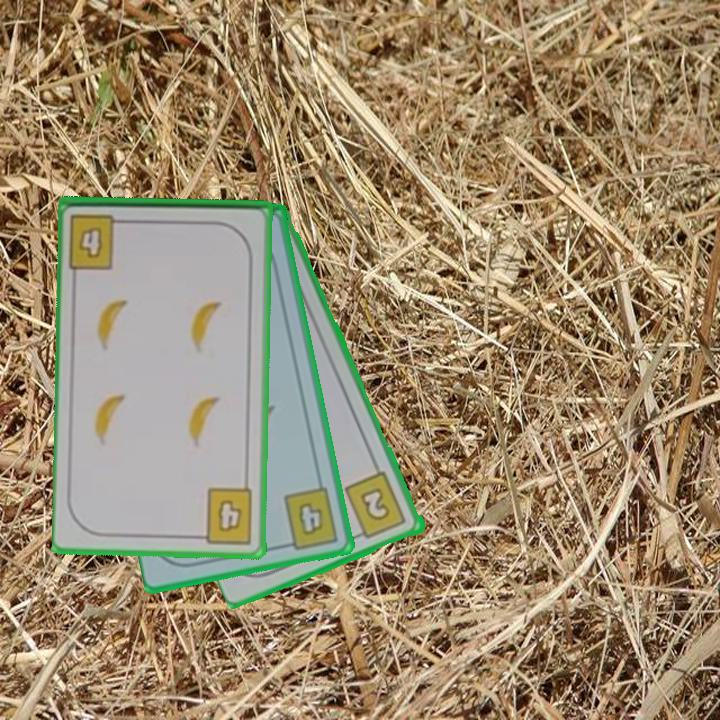2b: (341, 468, 410, 542)
4b: (279, 483, 342, 552), (66, 210, 132, 272), (193, 485, 256, 546)
